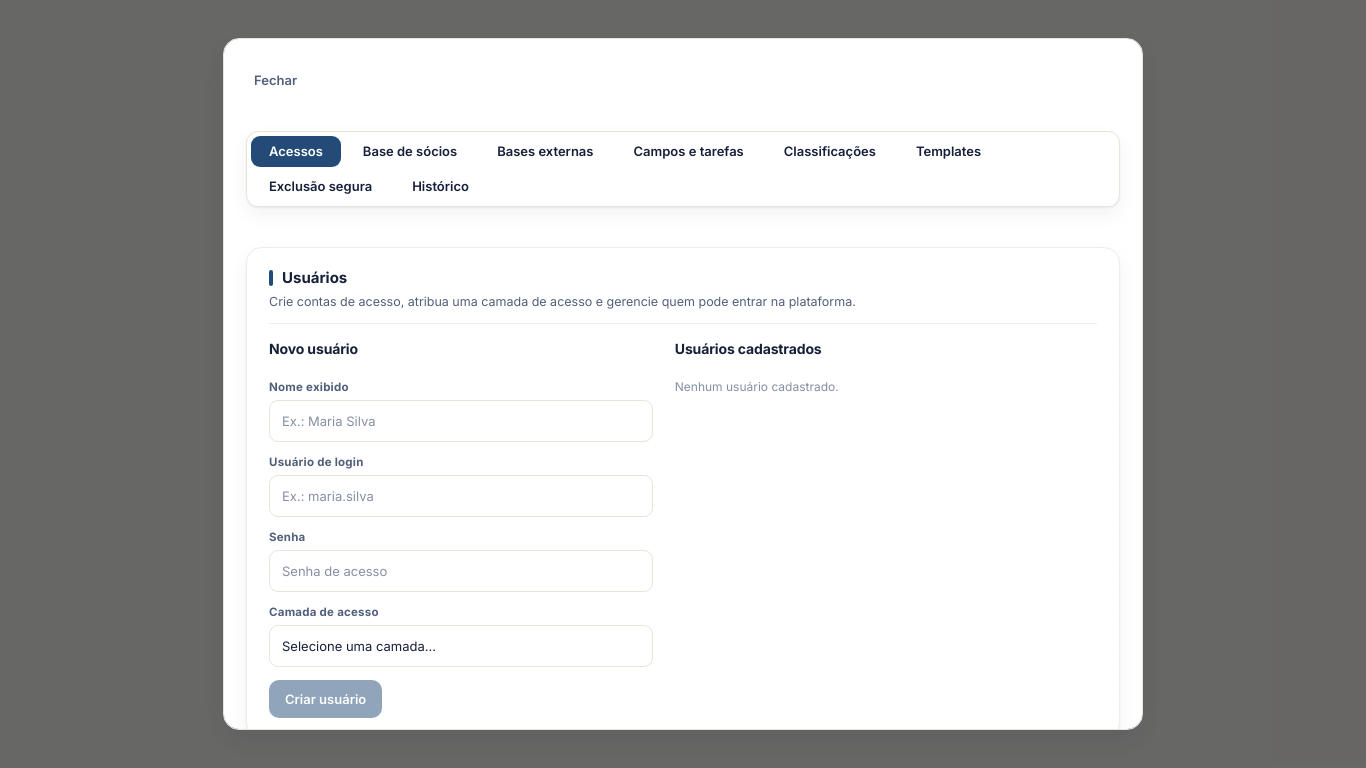
Scenario: AdminSettingsModal catalogo › pagina listas grandes do catalogo
The width and height of the screenshot is (1366, 768).
Click the button "Campos e tarefas" at point(689, 152), box [616, 136, 762, 167]
(page scrolled)
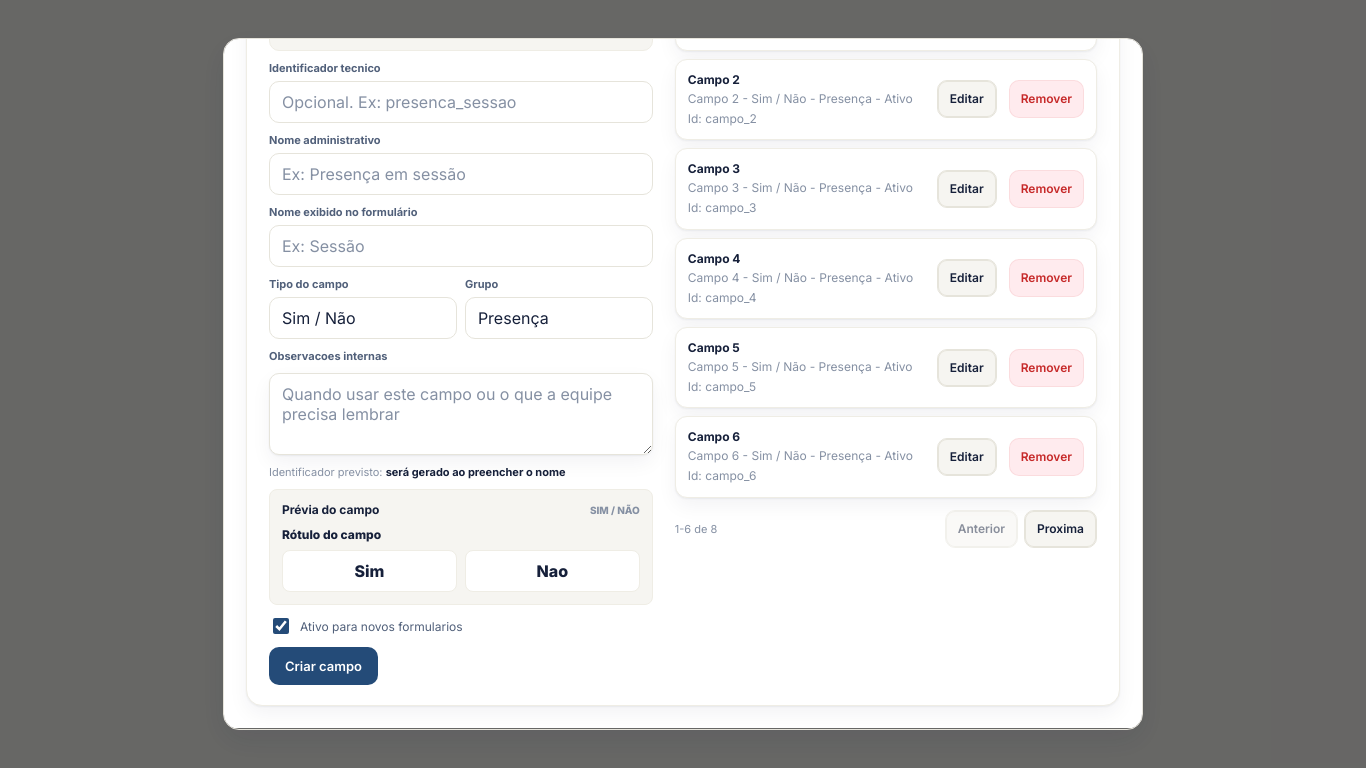
Check: the text "Campo 8" is not shown
Click the button "Proxima" at point(1060, 529), box [1024, 510, 1097, 548]
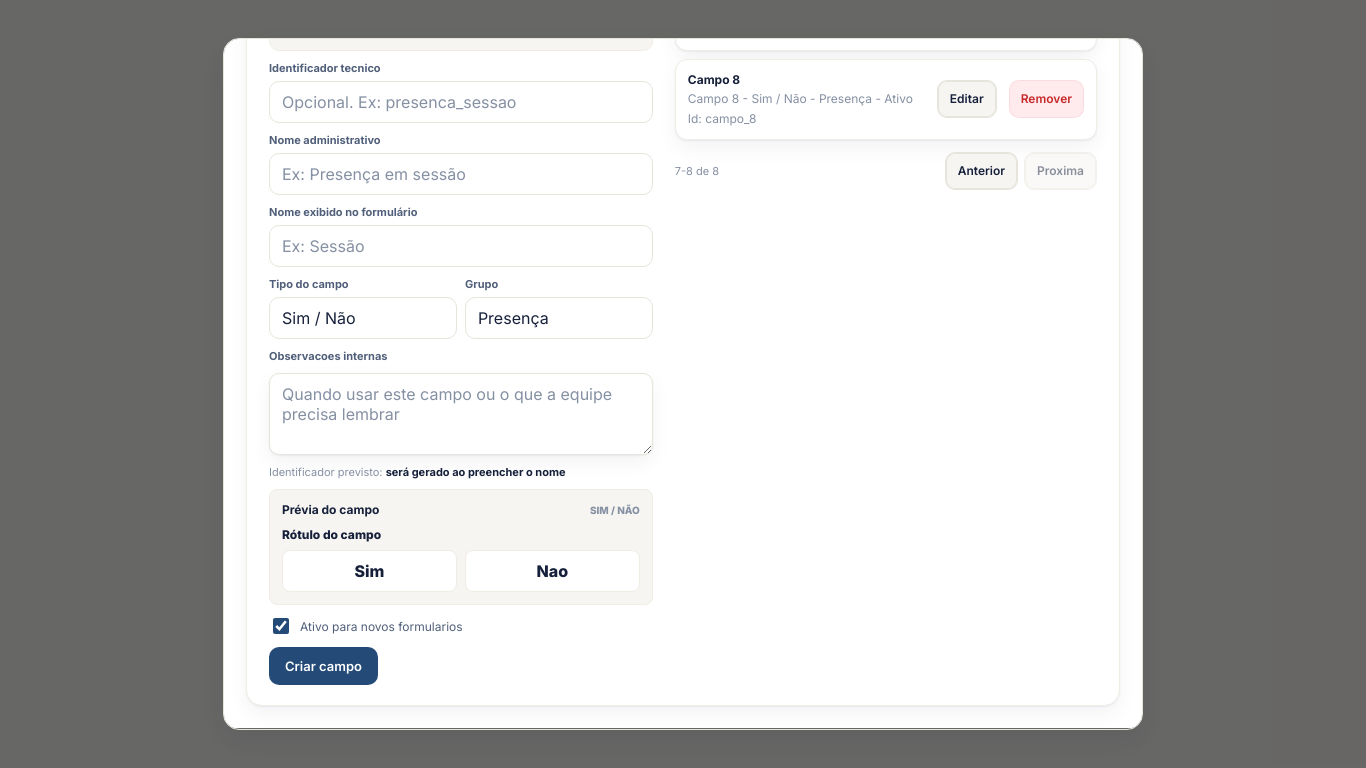
Check: the text "Campo 8" is shown, box [688, 72, 740, 87]
